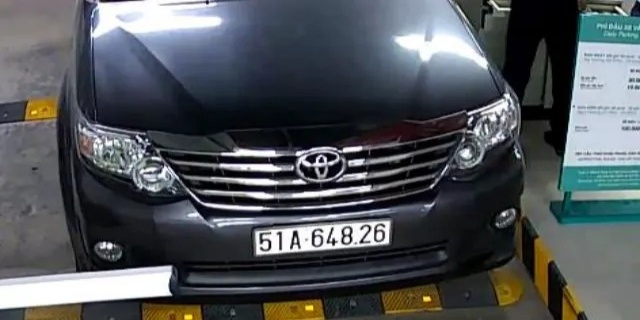bien_so: (254, 223, 391, 253)
